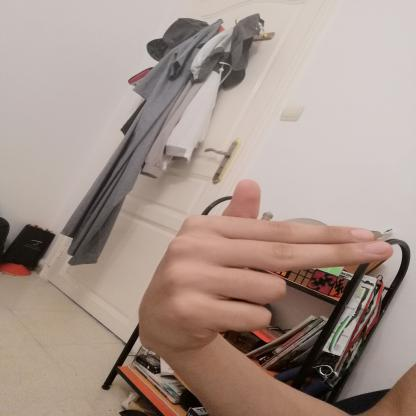GHAYN: (126, 169, 403, 368)
